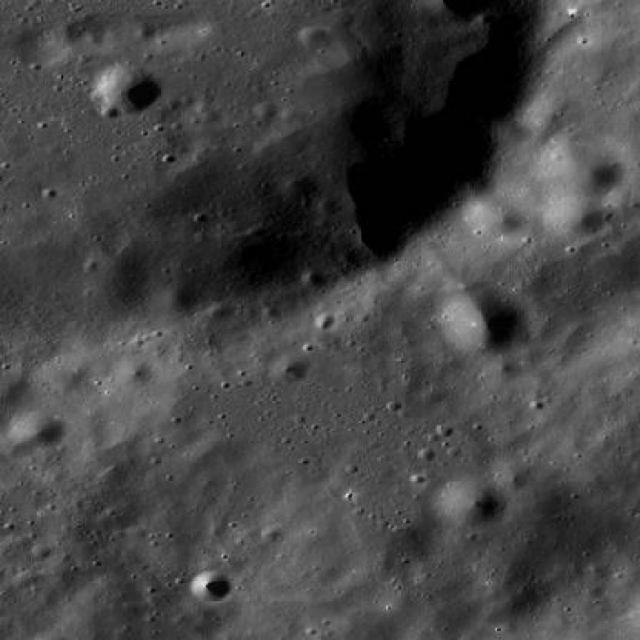crater: (536, 138, 622, 200), (440, 292, 525, 352), (468, 554, 550, 614), (536, 183, 607, 234), (135, 512, 203, 562), (437, 477, 506, 526), (90, 63, 159, 112), (78, 571, 146, 620), (462, 192, 527, 238), (6, 404, 68, 450), (557, 42, 617, 84), (151, 282, 200, 318), (422, 0, 487, 23), (520, 104, 563, 136), (269, 354, 309, 384), (0, 426, 37, 457), (190, 572, 230, 600), (114, 357, 154, 385), (363, 286, 403, 314), (44, 362, 82, 390), (489, 462, 528, 489), (284, 173, 320, 198), (495, 119, 531, 144), (488, 357, 522, 380), (0, 536, 28, 562), (0, 376, 26, 402), (300, 24, 329, 46), (538, 91, 568, 112), (528, 317, 556, 337), (260, 527, 285, 544), (303, 269, 328, 286), (423, 386, 446, 403), (253, 101, 276, 117), (588, 562, 610, 578), (0, 0, 2, 2)
